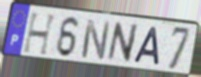6: (55, 15, 81, 59)
7: (169, 24, 191, 72)
A: (132, 26, 161, 68)
H: (21, 11, 59, 58)
N: (105, 22, 140, 65), (79, 18, 112, 62)
